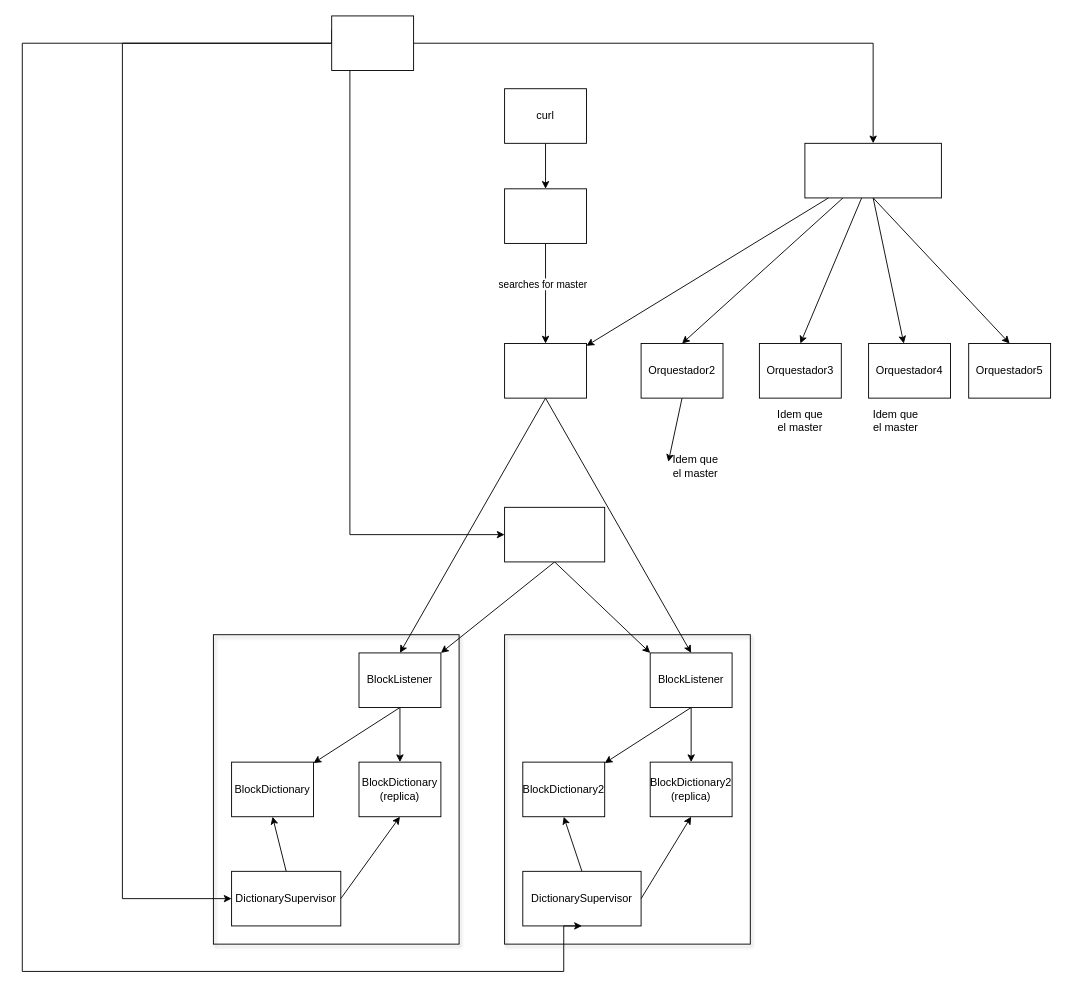
This 1067x995 diagram has some shape labels left out. The centre of each missing label's shape, as x and y in pixels:
"BlockSupervisor" goes at (x=554, y=534).
"ClientHandler" goes at (x=545, y=215).
"OrchestratorSupervisor" goes at (x=872, y=170).
"Orquestador1 (master)" goes at (x=545, y=370).
"Supervisor de supervisores" goes at (x=372, y=43).
